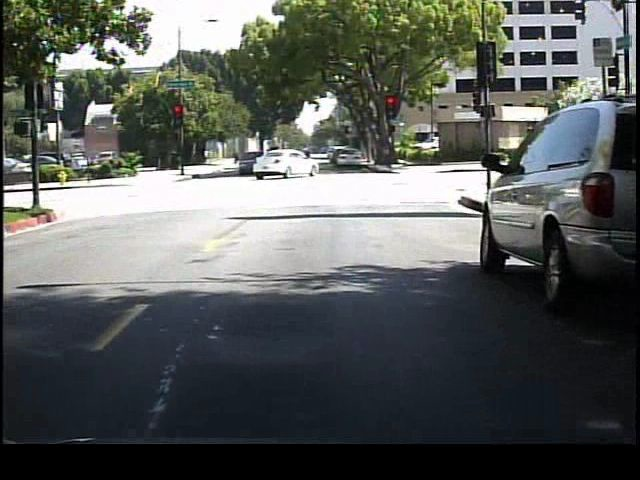person: (298, 142, 315, 176)
